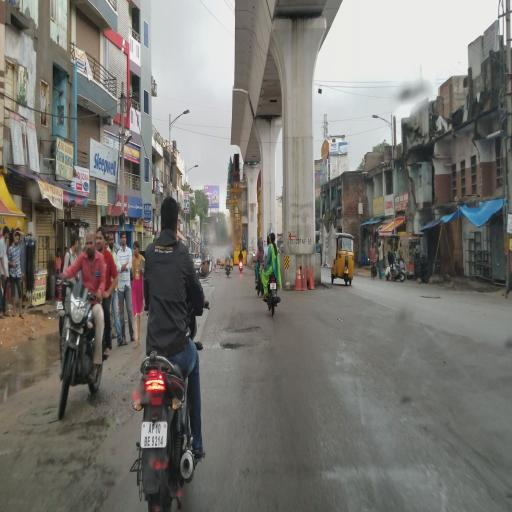street_light_0: (365, 103, 396, 131), (169, 100, 191, 129), (186, 158, 203, 180)
